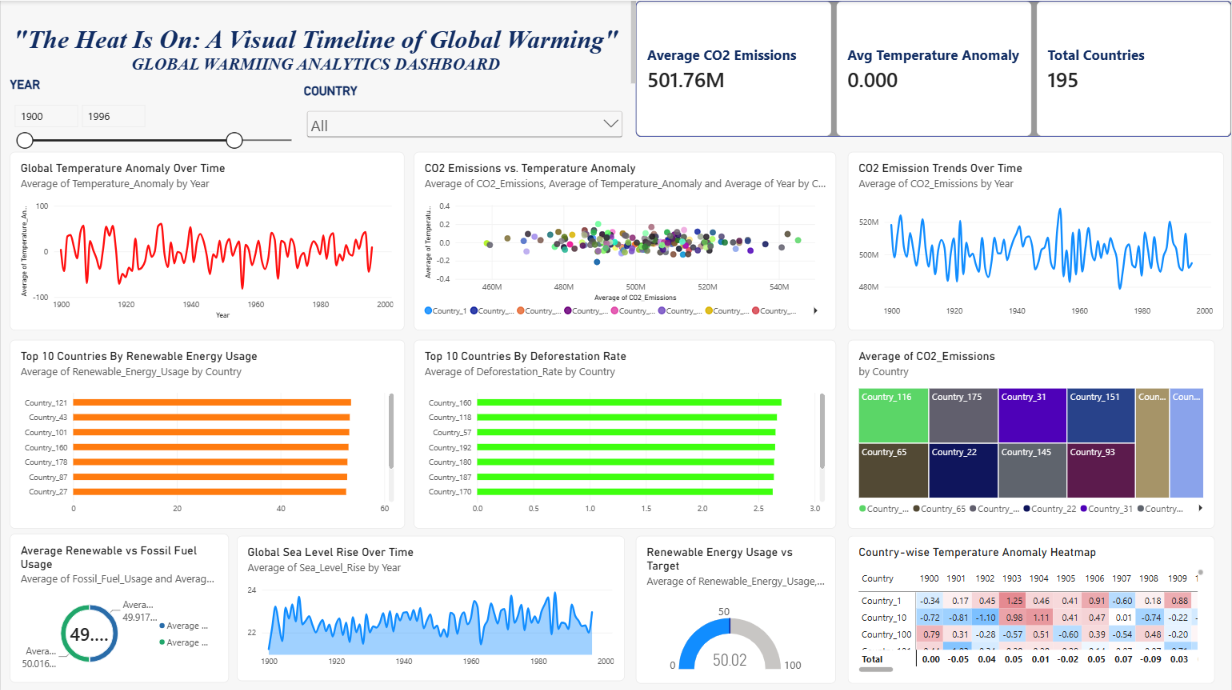

What the dashboard file says about the page in this screenshot:
{"tool":"powerbi","page":{"name":"Page 1","canvas":[1920,1080],"ordinal":0},"visuals":[{"type":"cardVisual","fields":{"Data":["Global_Warming_Cleaned.Average CO2 Emissions","Global_Warming_Cleaned.Average Temperature Anomaly","Global_Warming_Cleaned.Total Countries"]},"box":[990,0,930,212],"z":0},{"type":"lineChart","title":"Global Temperature Anomaly Over Time","fields":{"Category":["Global_Warming_Cleaned.Year"],"Y":["Sum(Global_Warming_Cleaned.Temperature_Anomaly)"]},"box":[14,236,615,278.3],"z":1000},{"type":"lineChart","title":"CO2 Emission Trends Over Time","fields":{"Category":["Global_Warming_Cleaned.Year"],"Y":["Avg(Global_Warming_Cleaned.CO2_Emissions)"]},"box":[1320,236,586,278],"z":2000},{"type":"scatterChart","title":"CO2 Emissions vs. Temperature Anomaly","fields":{"Series":["Global_Warming_Cleaned.Country"],"X":["Global_Warming_Cleaned.CO2_Emissions"],"Y":["Avg(Global_Warming_Cleaned.Temperature_Anomaly)"]},"box":[644,236,658.3,278.3],"z":3000},{"type":"clusteredBarChart","title":"Top 10 Countries By Renewable Energy Usage","fields":{"Category":["Global_Warming_Cleaned.Country"],"Y":["Avg(Global_Warming_Cleaned.Renewable_Energy_Usage)"]},"box":[14,528,616,294],"z":4000},{"type":"clusteredBarChart","title":"Top 10 Countries By Deforestation Rate","fields":{"Category":["Global_Warming_Cleaned.Country"],"Y":["Avg(Global_Warming_Cleaned.Deforestation_Rate)"]},"box":[644,528,658,294],"z":5000},{"type":"treemap","fields":{"Group":["Global_Warming_Cleaned.Country"],"Values":["Avg(Global_Warming_Cleaned.CO2_Emissions)"]},"box":[1320,528,572,294],"z":6000},{"type":"areaChart","title":"Global Sea Level Rise Over Time","fields":{"Category":["Global_Warming_Cleaned.Year"],"Y":["Avg(Global_Warming_Cleaned.Sea_Level_Rise)"]},"box":[368.3,833.3,605,226.7],"z":7000},{"type":"donutChart","title":"Average Renewable vs Fossil Fuel Usage","fields":{"Y":["Avg(Global_Warming_Cleaned.Fossil_Fuel_Usage)","Avg(Global_Warming_Cleaned.Renewable_Energy_Usage)"]},"box":[13.3,831.7,341.7,231.7],"z":8000},{"type":"pivotTable","title":"Country-wise Temperature Anomaly Heatmap","fields":{"Columns":["Global_Warming_Cleaned.Year"],"Rows":["Global_Warming_Cleaned.Country"],"Values":["Avg(Global_Warming_Cleaned.Temperature_Anomaly)"]},"box":[1320,833.3,571.7,230],"z":9000},{"type":"gauge","title":"Renewable Energy Usage vs Target","fields":{"MaxValue":["Global_Warming_Cleaned.Renewable Energy Maximum"],"MinValue":["Global_Warming_Cleaned.Renewable Energy Minimum"],"TargetValue":["Global_Warming_Cleaned.Renewable Energy Target"],"Y":["Avg(Global_Warming_Cleaned.Renewable_Energy_Usage)"]},"box":[990,833.3,311.7,230],"z":10000},{"type":"slicer","title":"COUNTRY","fields":{"Values":["Global_Warming_Cleaned.Country"]},"box":[472,130,502,106],"z":11000},{"type":"slicer","title":"YEAR","fields":{"Values":["Global_Warming_Cleaned.Year"]},"box":[14,120,458,128],"z":12000},{"type":"textbox","box":[0,0,990,130],"z":13000}]}

Visuals, with their boxes in screenshot pixels (x1, y1, x2, y2), scaled from the page's 1920x1080 canvas onto the 1232x690 screenshot:
cardVisual - Global_Warming_Cleaned.Average CO2 Emissions x Global_Warming_Cleaned.Average Temperature Anomaly: box(635, 0, 1231, 135)
"Global Temperature Anomaly Over Time" lineChart: box(9, 151, 404, 329)
"CO2 Emission Trends Over Time" lineChart: box(847, 151, 1223, 328)
"CO2 Emissions vs. Temperature Anomaly" scatterChart: box(413, 151, 836, 329)
"Top 10 Countries By Renewable Energy Usage" clusteredBarChart: box(9, 337, 404, 525)
"Top 10 Countries By Deforestation Rate" clusteredBarChart: box(413, 337, 835, 525)
treemap - Global_Warming_Cleaned.Country x Avg(Global_Warming_Cleaned.CO2_Emissions): box(847, 337, 1214, 525)
"Global Sea Level Rise Over Time" areaChart: box(236, 532, 625, 677)
"Average Renewable vs Fossil Fuel Usage" donutChart: box(9, 531, 228, 679)
"Country-wise Temperature Anomaly Heatmap" pivotTable: box(847, 532, 1214, 679)
"Renewable Energy Usage vs Target" gauge: box(635, 532, 835, 679)
"COUNTRY" slicer: box(303, 83, 625, 151)
"YEAR" slicer: box(9, 77, 303, 158)
textbox: box(0, 0, 635, 83)
